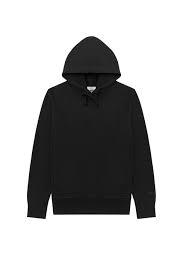hoodie: (26, 33, 159, 223)
